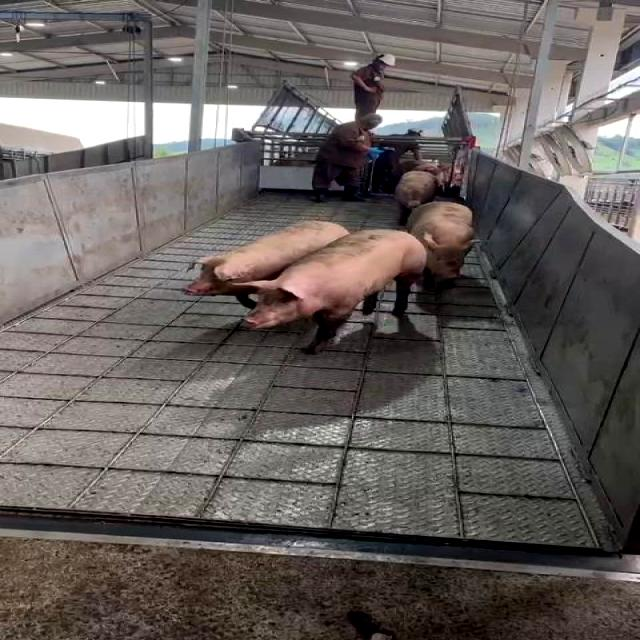pig: (243, 230, 424, 351), (187, 222, 347, 307), (407, 202, 474, 286), (396, 172, 439, 223)
